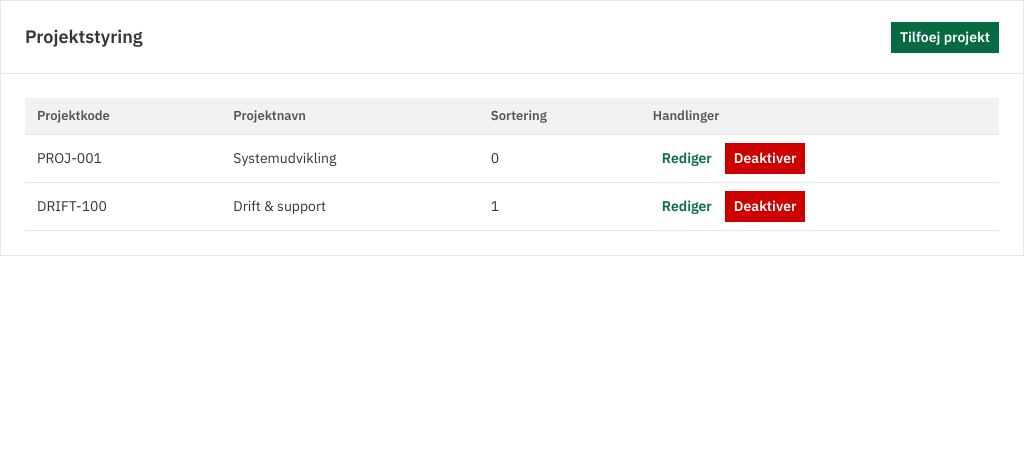
Test case: ProjectManagement — the dead-control fix (S91 class) › EDIT mode renders projectCode READ-ONLY/disabled (the backend never persisted it on update)
This screenshot has width=1024, height=476.
Expected: the text "Systemudvikling" is shown, [221,134,479,182]
Click the button "Rediger" in the row of "PROJ-001": click(687, 158) [653,142,721,174]
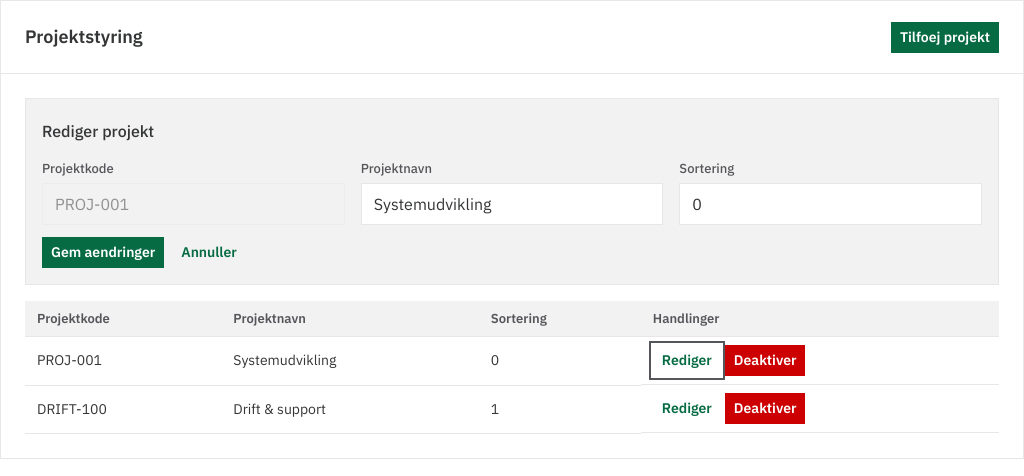
Expected: the heading "Rediger projekt" is shown, [42,121,154,141]
Expected: the 1st field holds "PROJ-001", [42,182,345,224]
Expected: the 1st field is disabled, [42,182,345,224]
